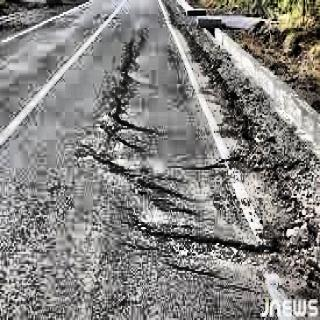crack: (133, 213, 268, 258), (108, 30, 152, 158)
